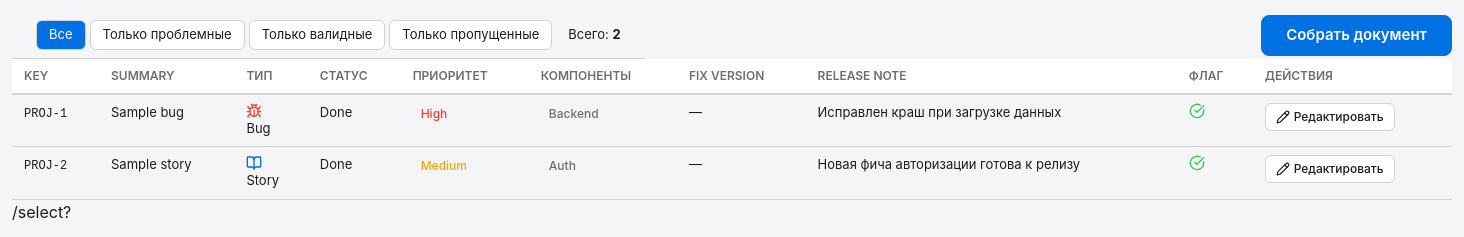
Test case: IssueTable — skip filter (D-11, SKIP-02) › selecting «Только пропущенные» with zero skip tasks shows an empty body (no crash, D-12)
The image size is (1464, 237).
Click the button "Только пропущенные". click: (471, 35)
box: [389, 20, 552, 50]
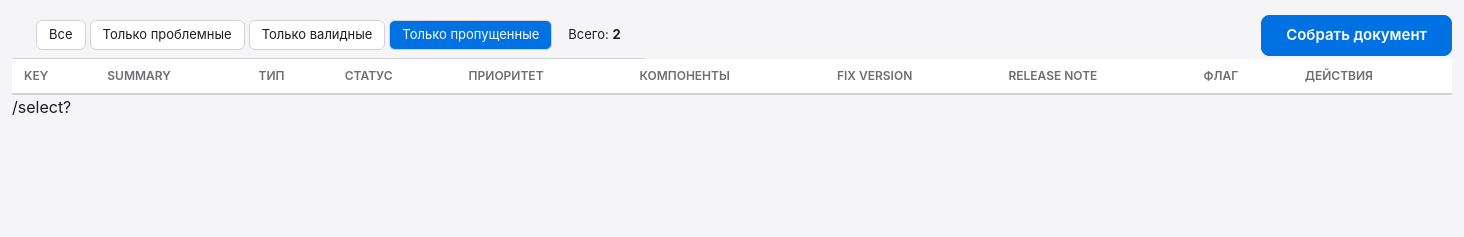
Expected: the text "PROJ-1" is gone
Expected: the text "PROJ-2" is gone
